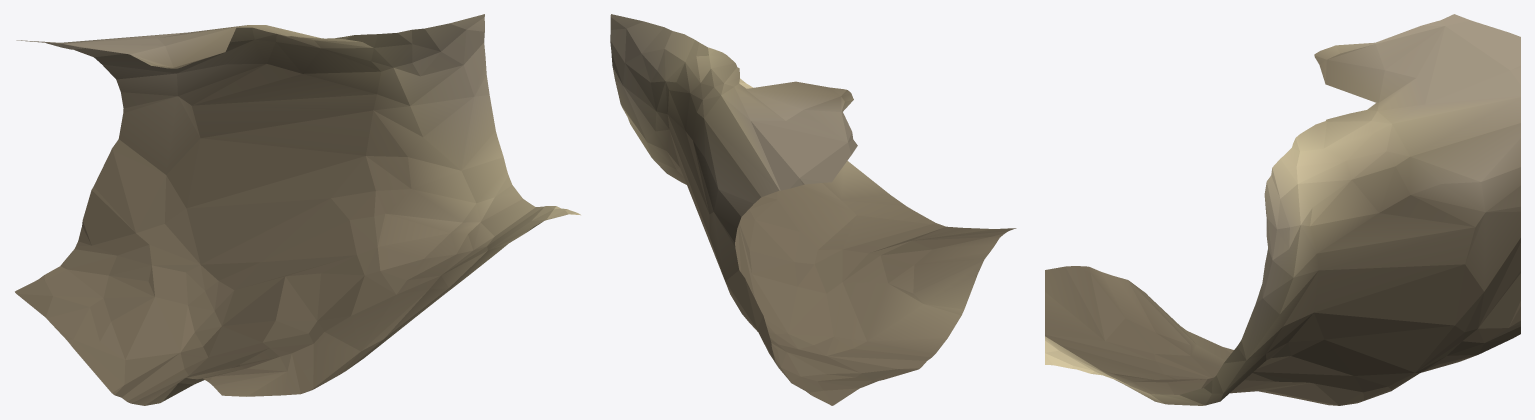
File: bisect-5-3-9.gltf
3 views of the same model, side by side, from view 1: azimuth 30°, elevation 25°; view 2: azimuth 150°, elevation 25°; view 3: azimuth 270°, elevation 25° (orthographic). The views are drawn at different scales.
Parts seen in each view (by area): view 1: bisect-5-3-9; view 2: bisect-5-3-9; view 3: bisect-5-3-9.
Part boxes in pixels (x1=…): bisect-5-3-9: x1=15, y1=14, x2=580, y2=405; bisect-5-3-9: x1=610, y1=14, x2=1016, y2=405; bisect-5-3-9: x1=1045, y1=14, x2=1520, y2=405.
Bounding box in the file's own units: 20 × 16.04 × 20.
